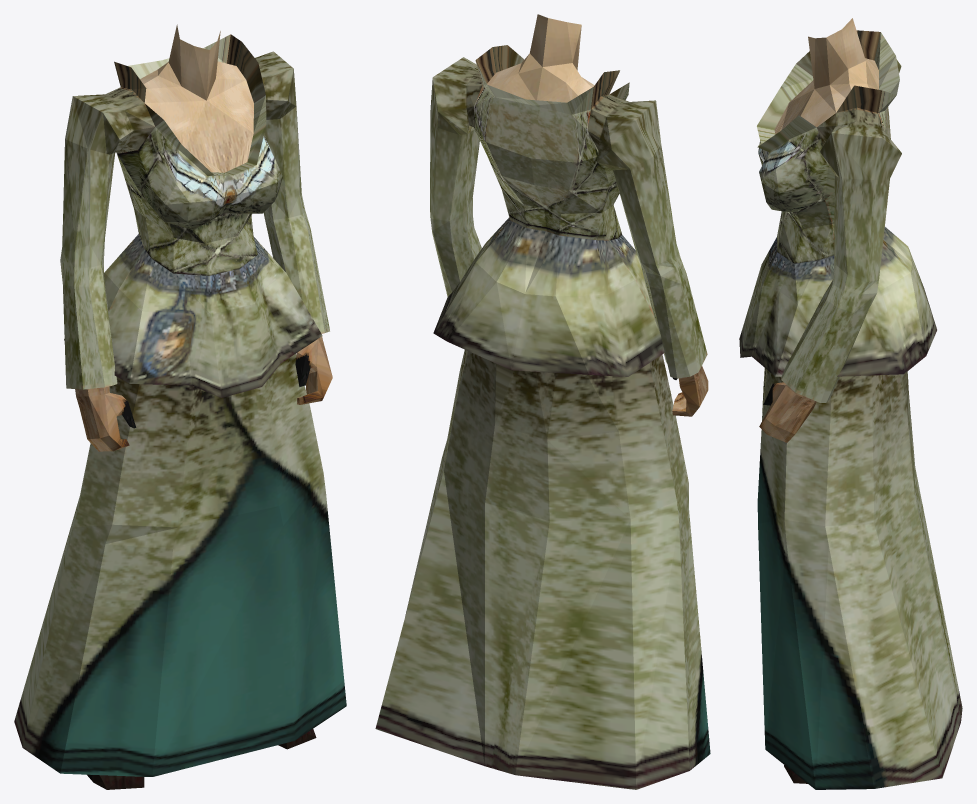
The model's file is Armor_VlkBabe_L.glb.
3 renders of one model, left to right at view 1: azimuth 30°, elevation 25°; view 2: azimuth 150°, elevation 25°; view 3: azimuth 270°, elevation 25°, orthographic.
Visible parts, largest first — view 1: Armor_VlkBabe_Lzm_Magd; view 2: Armor_VlkBabe_Lzm_Magd; view 3: Armor_VlkBabe_Lzm_Magd.
Part boxes in pixels (box(x1,y1,x2,y2)): Armor_VlkBabe_Lzm_Magd: box(14, 24, 346, 789); Armor_VlkBabe_Lzm_Magd: box(375, 14, 710, 789); Armor_VlkBabe_Lzm_Magd: box(739, 18, 962, 789).
Bounding box in the file's own units: 0.7235 × 1.66 × 0.4654.
Materials: 2 (2 with a texture image).
